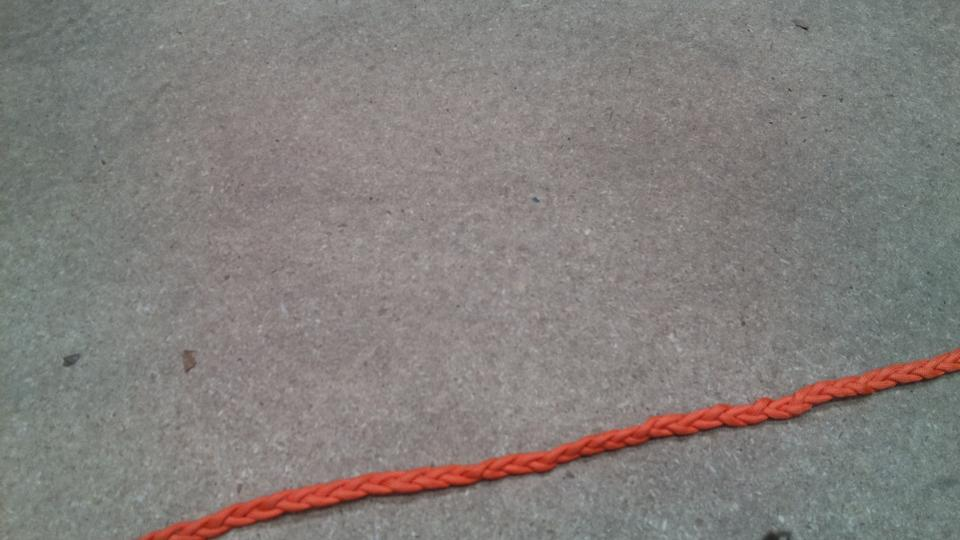rope: (139, 347, 960, 540)
